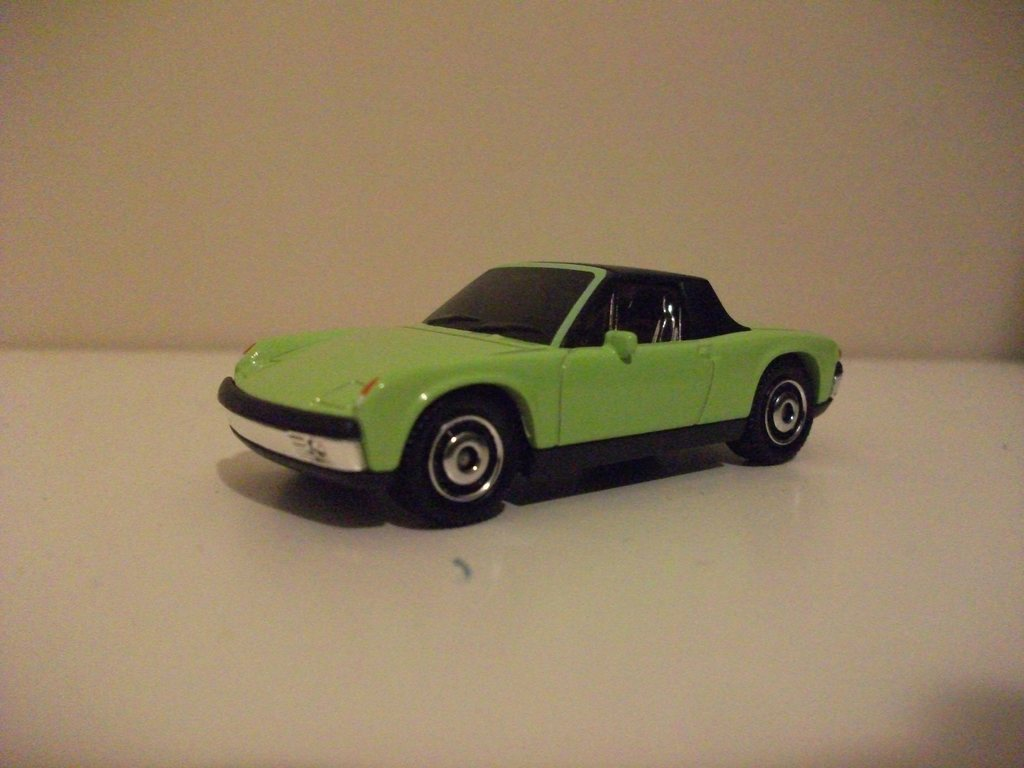Car: (213, 261, 843, 528)
